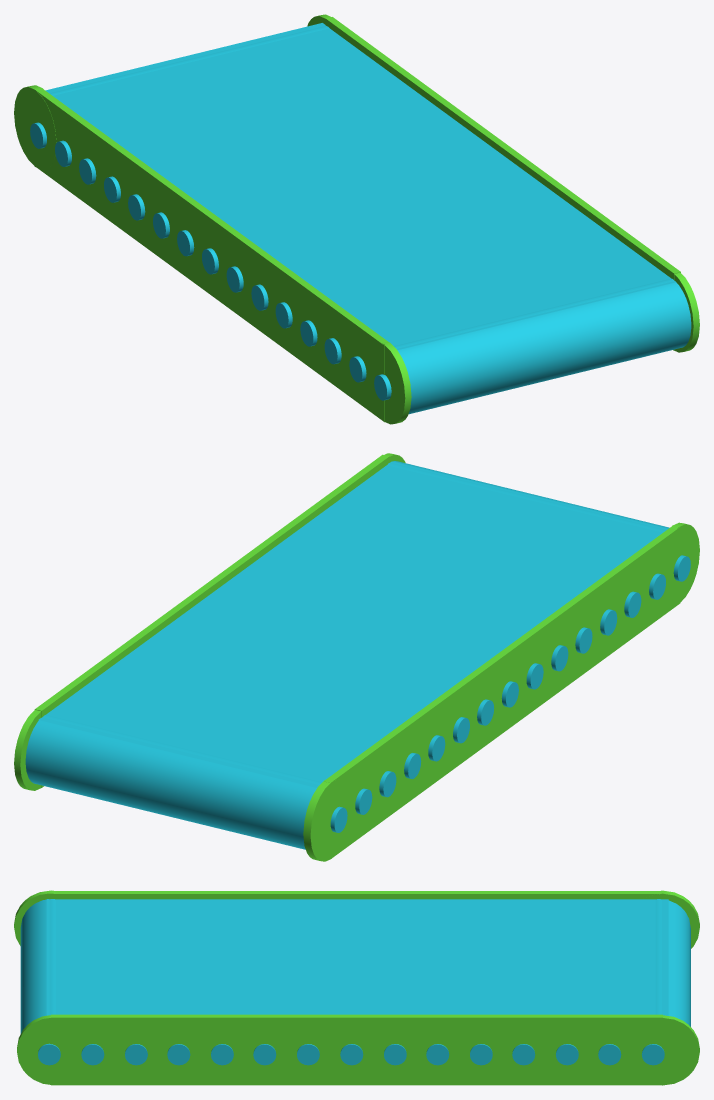
3 views of the same model, one above another, from view 1: azimuth 30°, elevation 25°; view 2: azimuth 150°, elevation 25°; view 3: azimuth 270°, elevation 25° (orthographic). The views are drawn at different scales.
Parts seen in each view (by area): view 1: conveyor; view 2: conveyor; view 3: conveyor.
Boxes of the visible parts, bbox=[...] form: conveyor: bbox=[14, 14, 699, 424]; conveyor: bbox=[14, 453, 699, 861]; conveyor: bbox=[14, 890, 699, 1085].
Size of the model in its own units: 512 by 125 by 1144.
